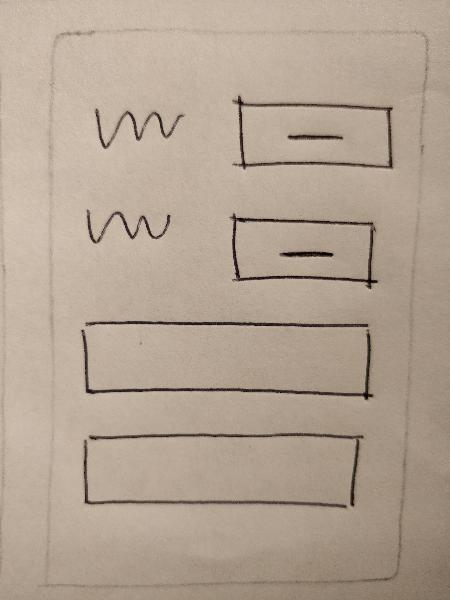button: (227, 90, 401, 182), (223, 208, 387, 293)
text: (84, 99, 187, 155), (81, 201, 174, 253)
text_input: (74, 314, 379, 405), (72, 427, 369, 517)
